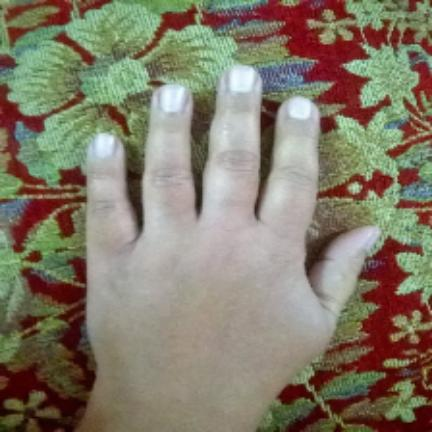Nail: (156, 84, 188, 114), (228, 66, 255, 95), (286, 96, 313, 120), (94, 133, 115, 159)
